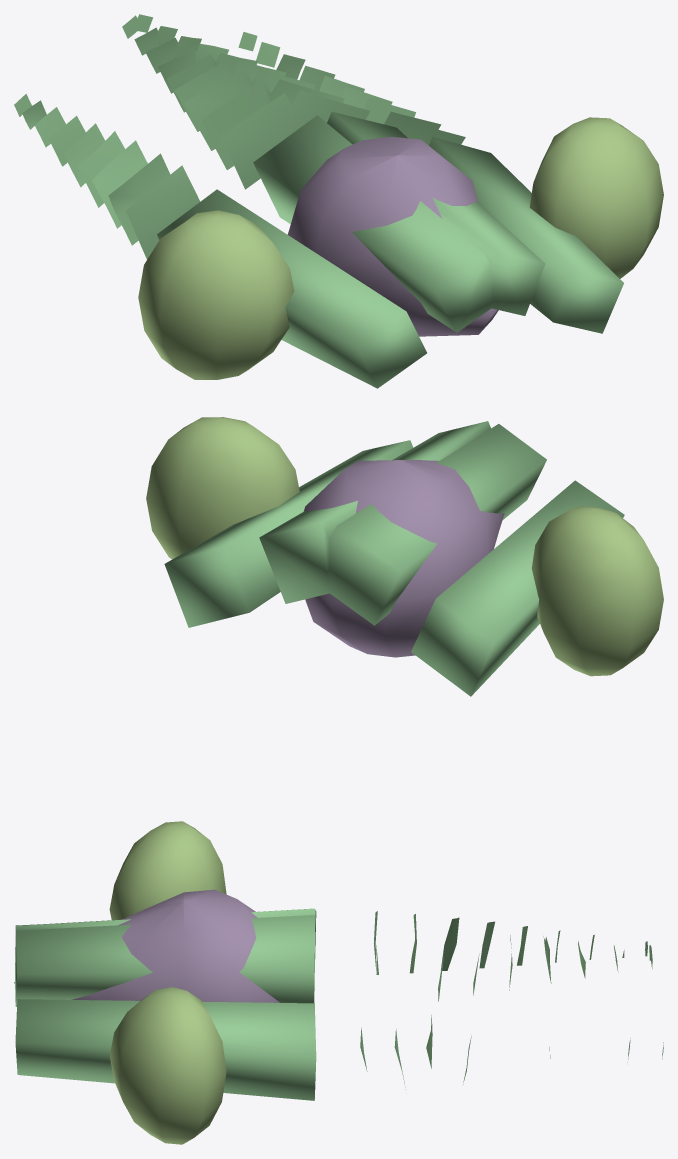
The model's file is ship_6.gltf.
3 renders of one model, top to bottom at view 1: azimuth 30°, elevation 25°; view 2: azimuth 150°, elevation 25°; view 3: azimuth 270°, elevation 25°, orthographic. The views are drawn at different scales.
Parts seen in each view (by area): view 1: gtlf; view 2: gtlf; view 3: gtlf.
Part boxes in pixels (x1,y1,x2,y2): gtlf: [14, 14, 663, 388]; gtlf: [146, 417, 663, 696]; gtlf: [14, 821, 663, 1144].
Size of the model in its own units: 1.68 by 0.578 by 2.09.
